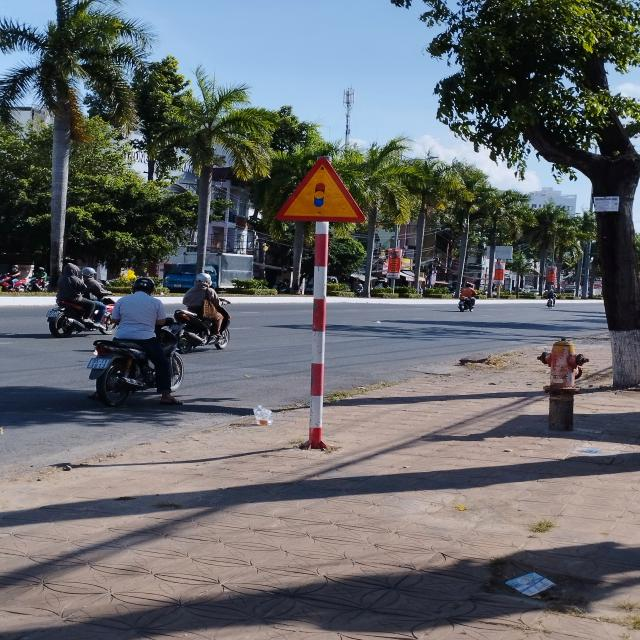Duong_Co_Go_Giam_Toc: (274, 156, 366, 223)
